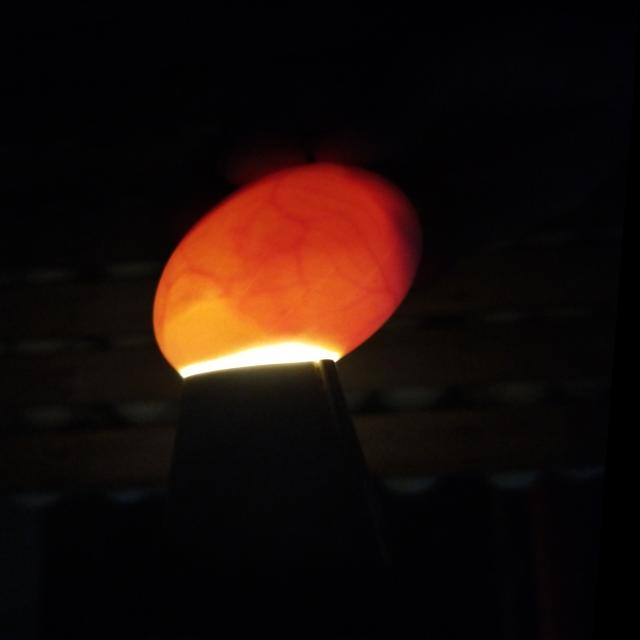Embriao: (341, 165, 427, 278)
